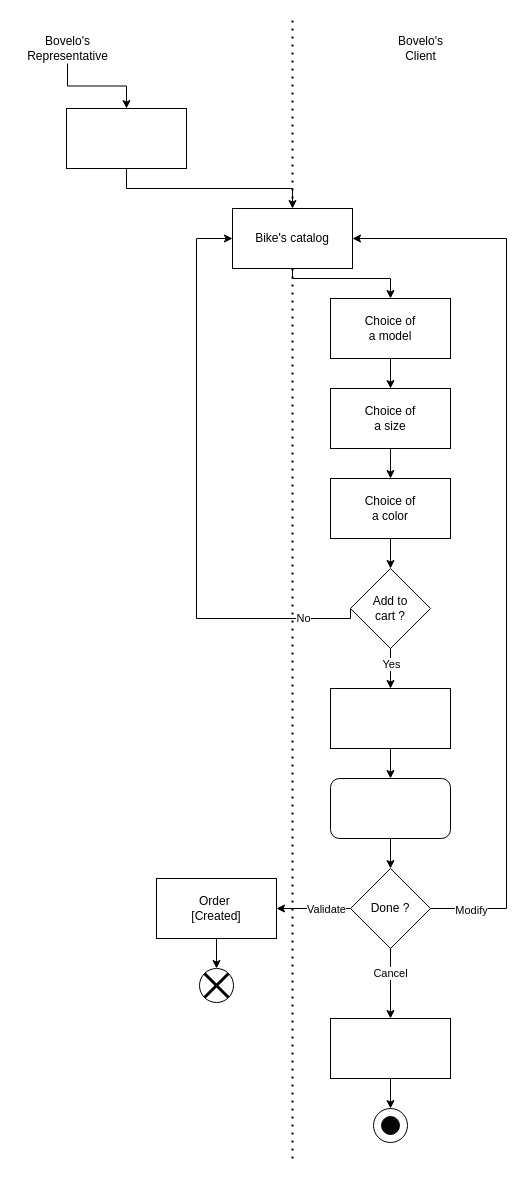
The diagram is 532 pixels wide and 1177 high, and some of its shapes have lost their labels. Each missing label, with the centre of its shape:
"Order [Canceled]" goes at [390,1048].
"Product added to cart" goes at [390,718].
"Show Bike's catalog" goes at [126,138].
"Show cart content" goes at [390,808].
